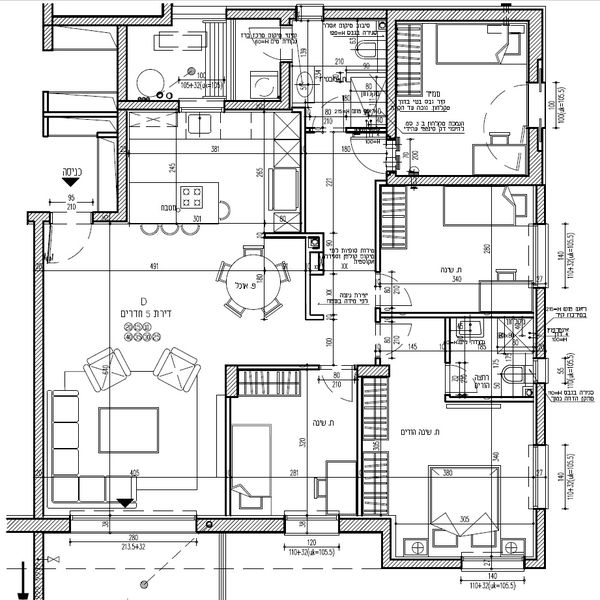door: (41, 207, 93, 259), (317, 360, 361, 404), (347, 133, 390, 174), (374, 267, 411, 312), (377, 320, 417, 356)
room: (20, 208, 238, 536), (363, 315, 556, 568), (382, 7, 549, 185), (116, 90, 307, 240), (216, 355, 367, 534), (374, 174, 551, 315), (121, 4, 297, 110), (278, 5, 394, 135)
wall: (33, 211, 50, 518), (324, 9, 547, 28), (115, 34, 131, 226), (382, 172, 548, 190), (386, 20, 407, 147), (37, 13, 176, 29), (199, 514, 287, 536), (529, 289, 554, 360), (523, 124, 547, 186), (379, 554, 465, 571), (340, 514, 394, 541), (117, 98, 182, 120), (7, 516, 82, 535), (226, 7, 306, 24), (32, 527, 53, 590), (530, 384, 551, 446), (533, 505, 553, 568), (227, 95, 293, 113), (218, 364, 244, 399), (531, 185, 554, 224), (354, 359, 389, 382)
window: (83, 512, 199, 537), (285, 509, 338, 543), (527, 441, 554, 506), (531, 230, 555, 287), (174, 4, 225, 24), (449, 560, 527, 570), (528, 359, 551, 382)
